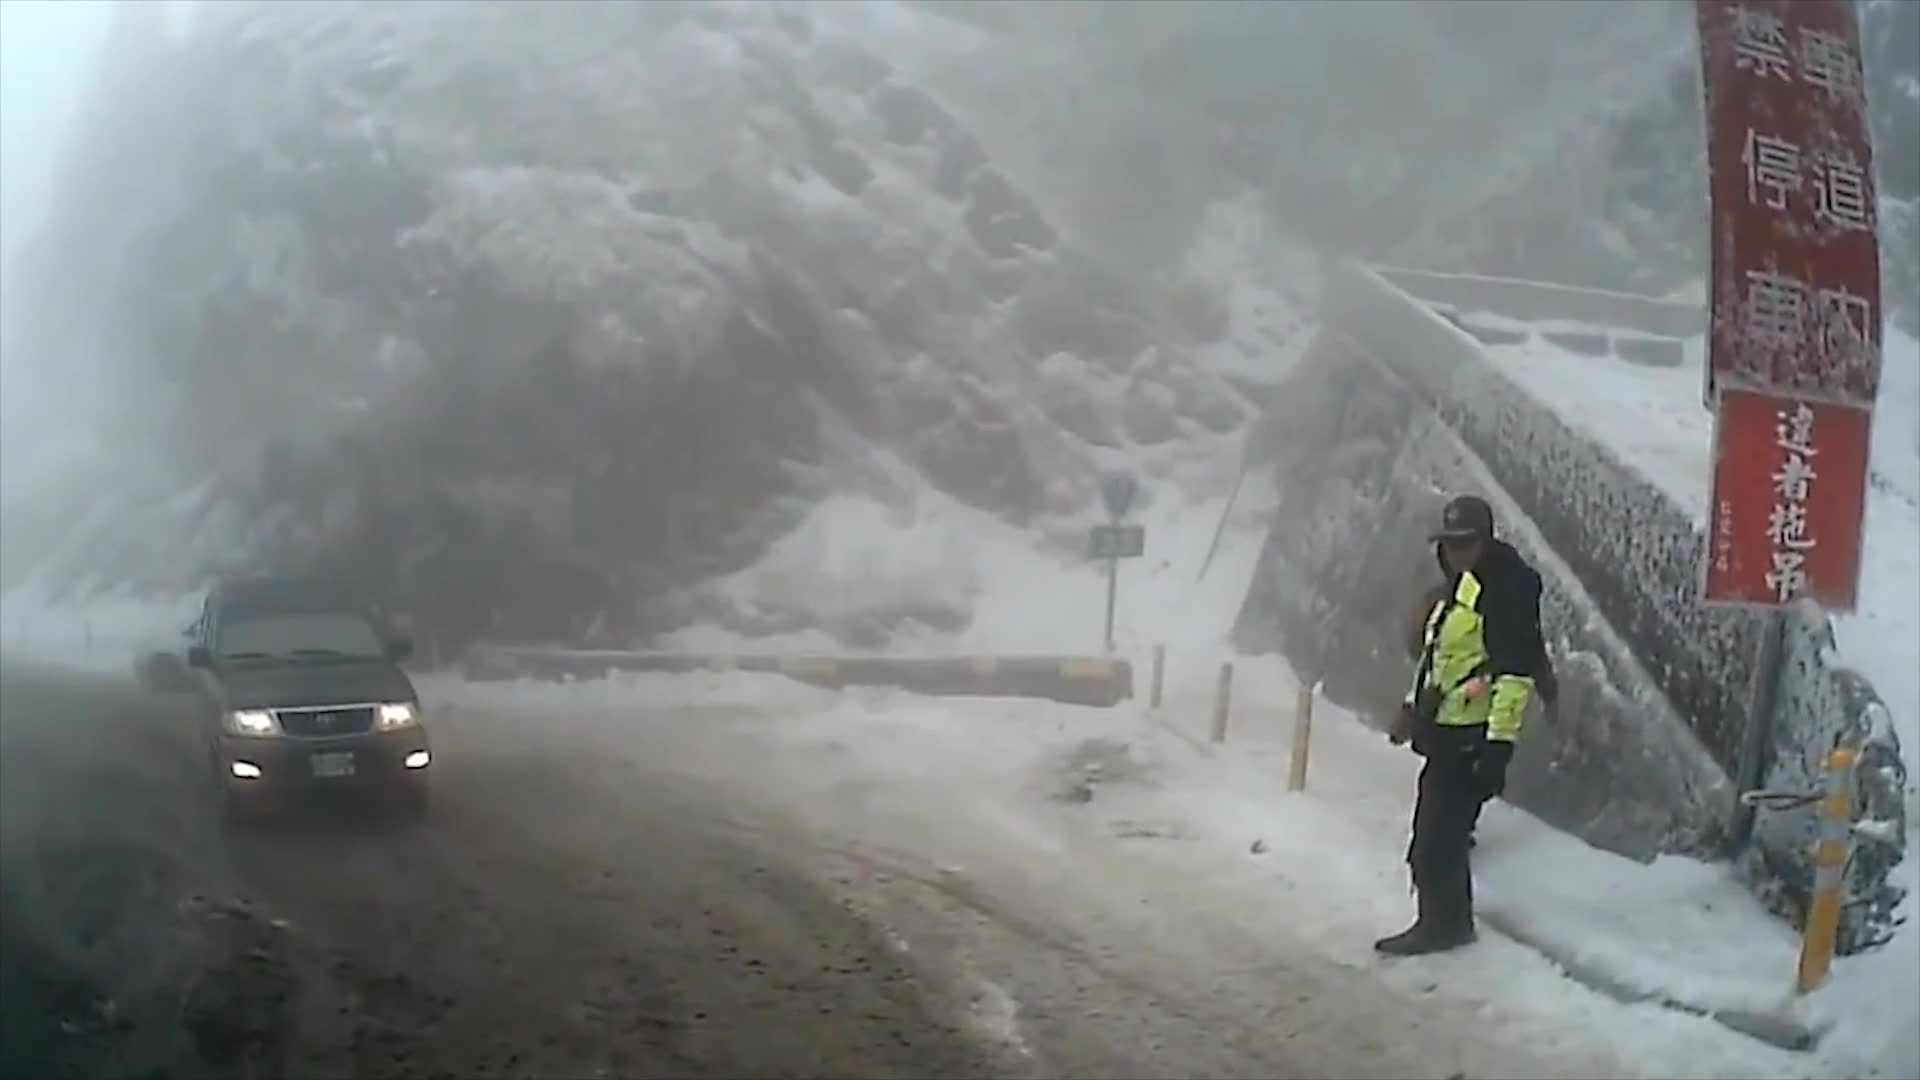pedestrian: (1377, 494, 1552, 961)
vehicle: (185, 576, 432, 828)
